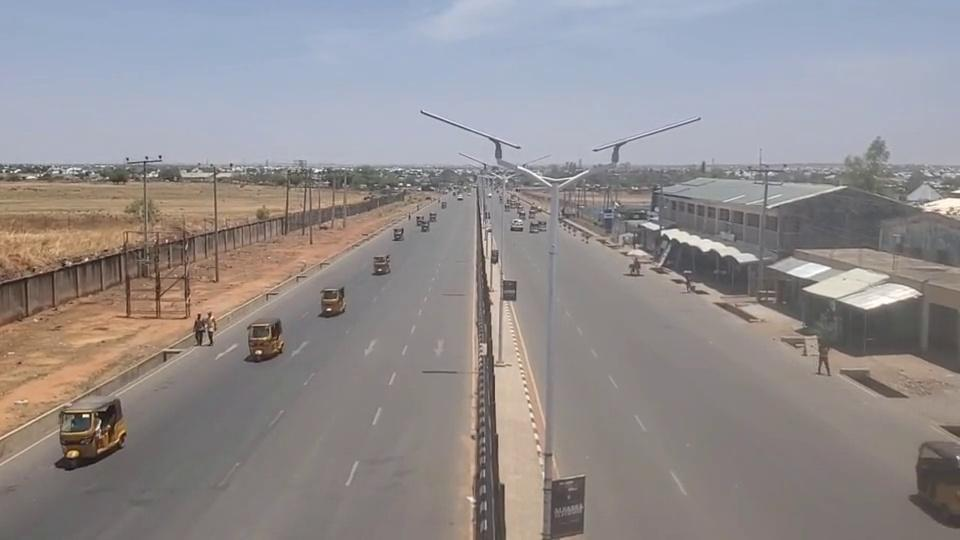car: (511, 218, 524, 232)
keke: (57, 394, 126, 460), (915, 438, 960, 527), (246, 317, 283, 361), (319, 286, 345, 316), (373, 254, 392, 276)
